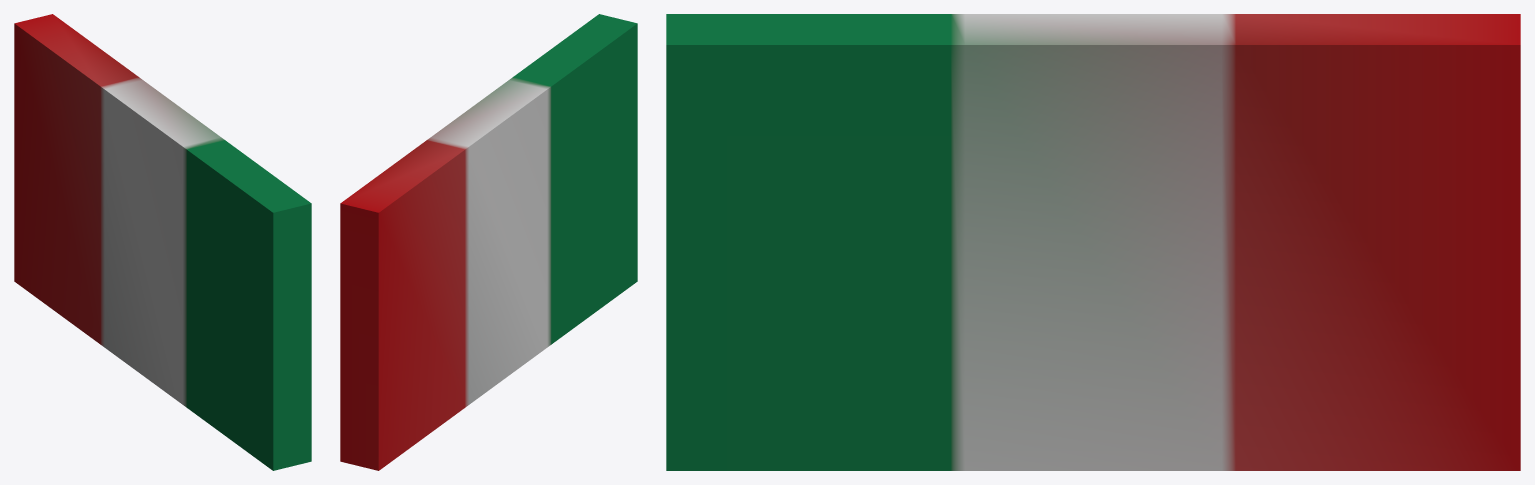
File: ProperFlag.fbx
The picture shows the model from 3 angles, left to right: view 1: azimuth 30°, elevation 25°; view 2: azimuth 150°, elevation 25°; view 3: azimuth 270°, elevation 25°; orthographic projection. The views are drawn at different scales.
Parts seen in each view (by area): view 1: Cube; view 2: Cube; view 3: Cube.
Part boxes in pixels (left/top/right/bottom): Cube: left=14, top=14, right=311, bottom=470; Cube: left=340, top=14, right=637, bottom=470; Cube: left=666, top=14, right=1520, bottom=470.
Size of the model in its own units: 38.18 by 245 by 445.
